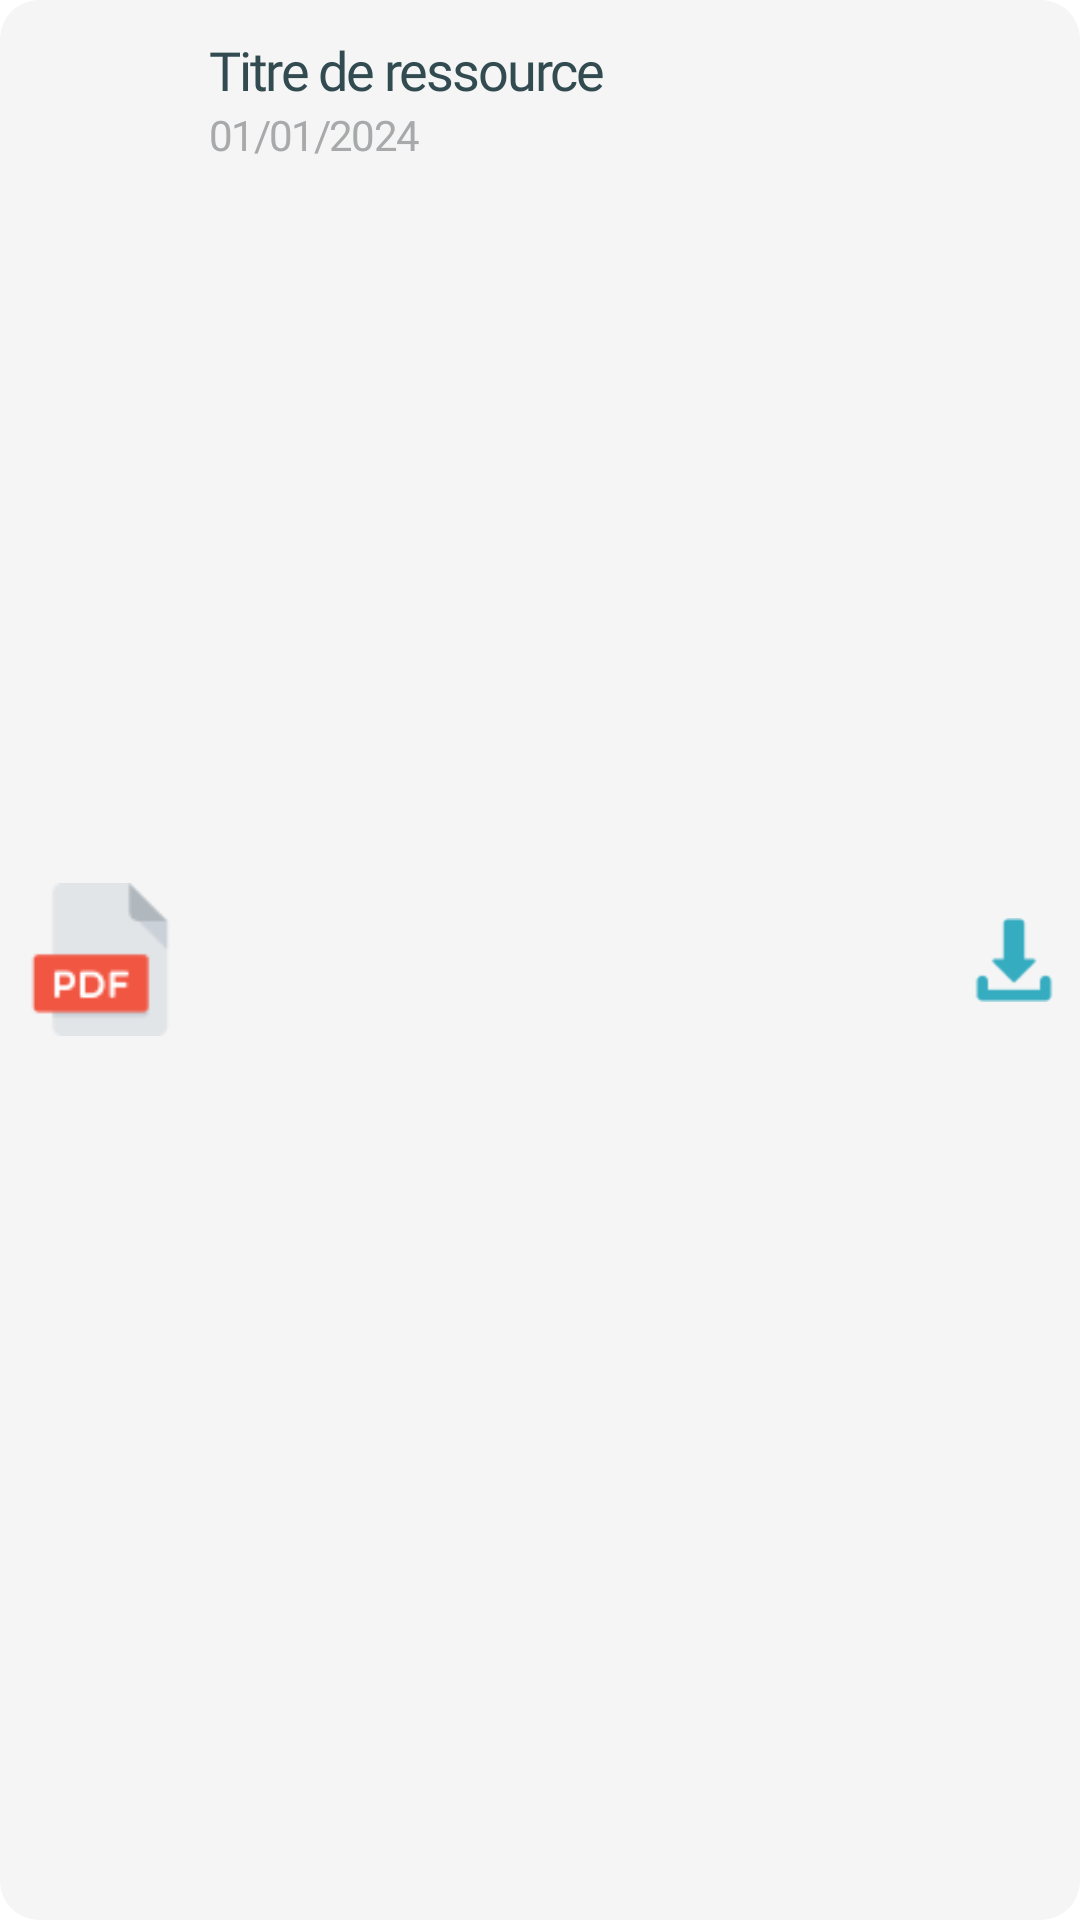

Named icons in this screenshot (1080px×1920px) and their centers, (x,y):
download: (1014,960)
